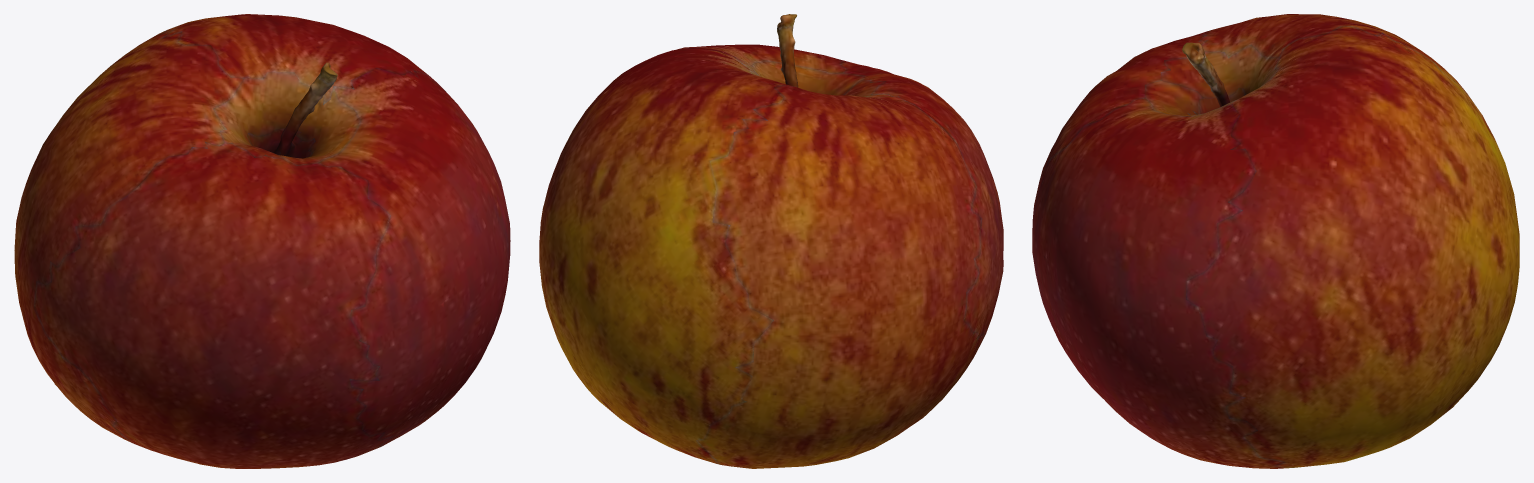
Rendered from food_apple_01.glb.
3 views of the same model, side by side, from view 1: azimuth 30°, elevation 25°; view 2: azimuth 150°, elevation 25°; view 3: azimuth 270°, elevation 25° (orthographic). The views are drawn at different scales.
Parts seen in each view (by area): view 1: food_apple_01; view 2: food_apple_01; view 3: food_apple_01.
Part boxes in pixels (left/top/right/bottom): food_apple_01: left=14, top=14, right=510, bottom=468; food_apple_01: left=539, top=14, right=1003, bottom=468; food_apple_01: left=1032, top=14, right=1519, bottom=468.
Size of the model in its own units: 0.0976 by 0.0854 by 0.0959.
Materials: 1 (1 with a texture image).
